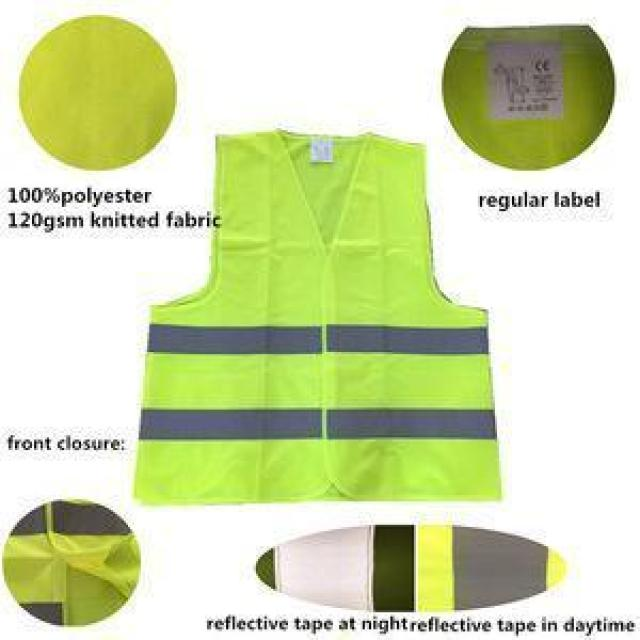Vest: (130, 128, 504, 510)
